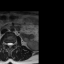CCS_normal: (9, 41, 11, 49)
LFS_normal: (13, 41, 15, 46)
LLS_normal: (11, 41, 13, 48)
RFS_normal: (5, 41, 7, 46)
RLS_normal: (7, 41, 9, 47)
